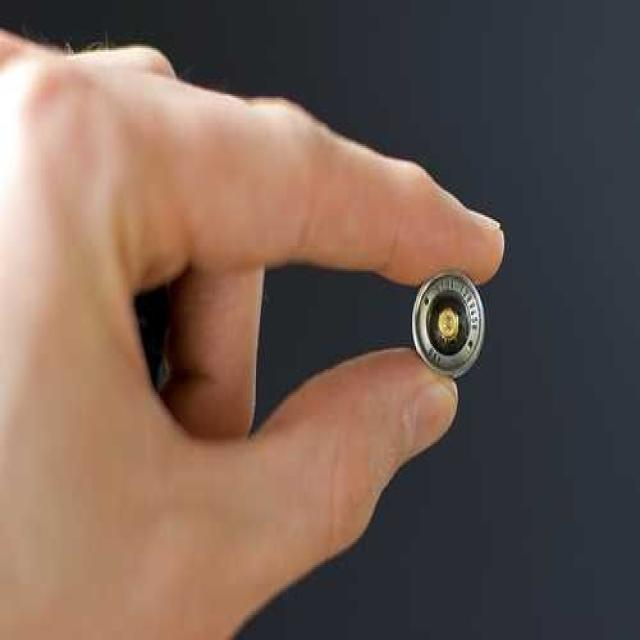microphone: (410, 268, 496, 378)
